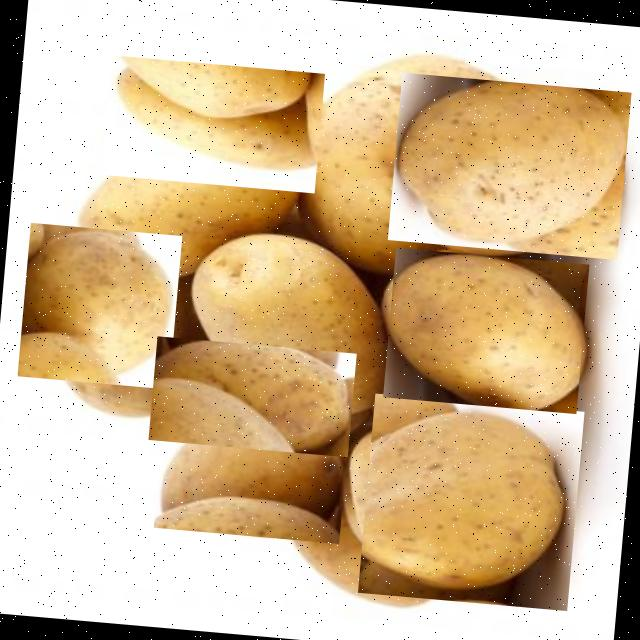Potato: (356, 392, 583, 610), (386, 73, 630, 260), (288, 50, 494, 263), (391, 72, 621, 257), (74, 113, 308, 294), (182, 214, 389, 410), (382, 247, 588, 413), (100, 55, 323, 193), (16, 222, 181, 389), (152, 408, 348, 544), (147, 336, 355, 457)
